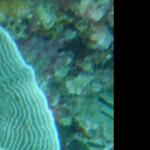dead: (3, 1, 112, 147)
